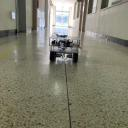cart: (49, 35, 81, 62)
